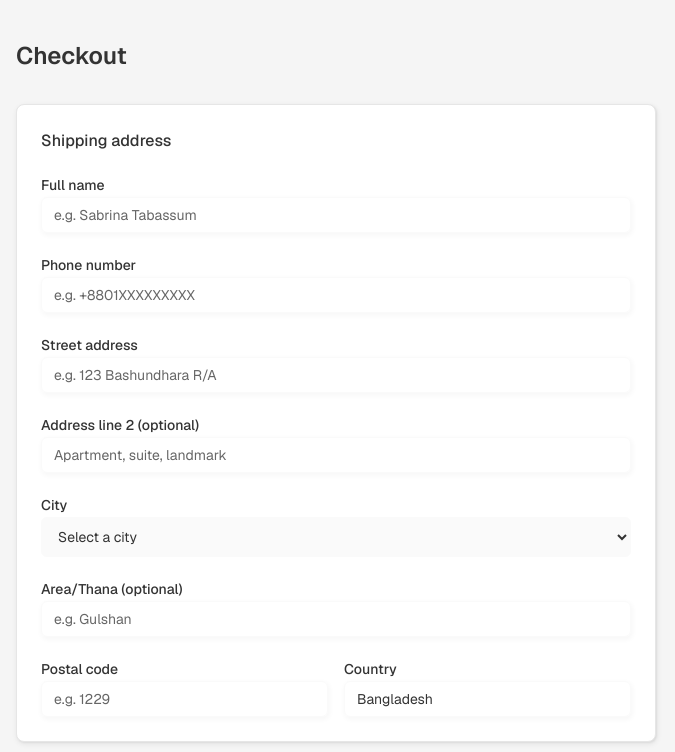
Test: Checkout page cart -> order integration › surfaces API error field when order creation fails
In the field labelled "Full name": (336, 215) [41, 197, 631, 233], type "Sakhiur Rahman"
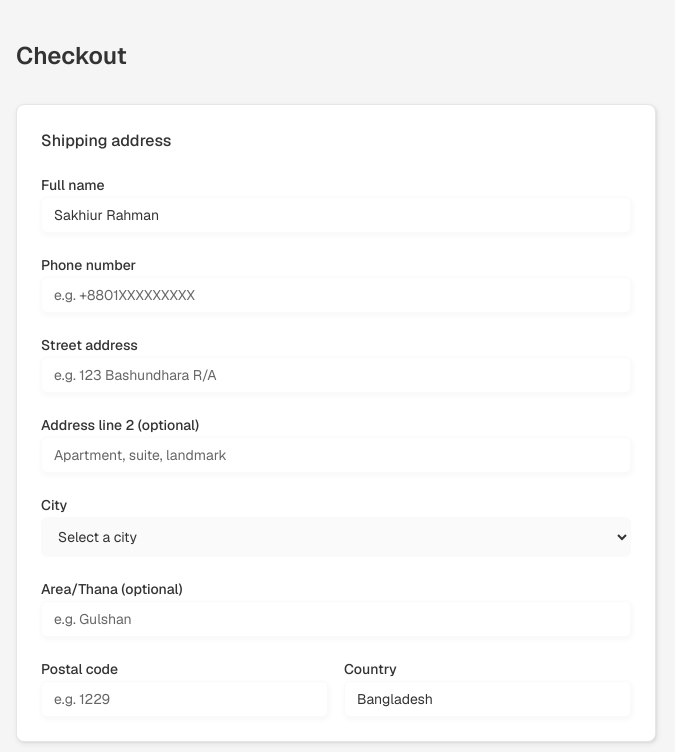
In the field labelled "Phone number": (336, 295) [41, 277, 631, 313], type "+8801712345678"
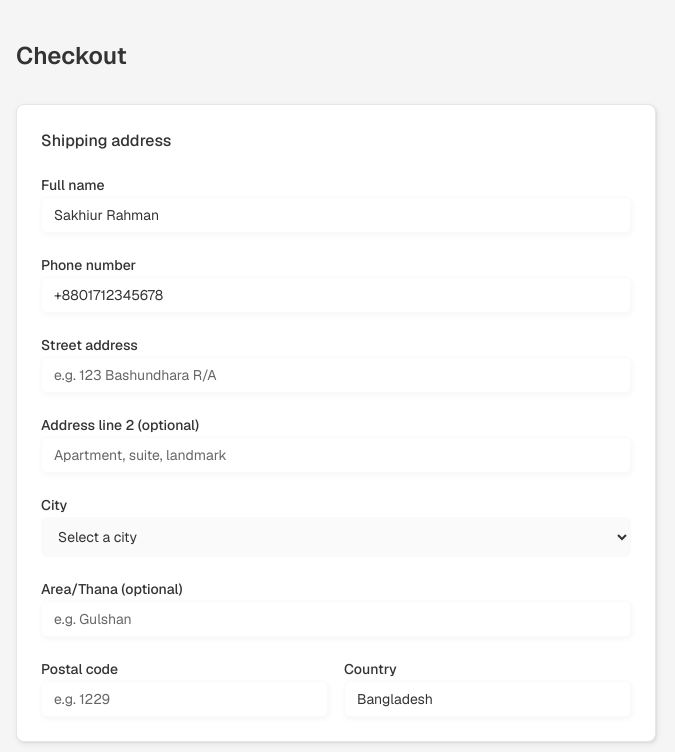
In the field labelled "Street address": (336, 375) [41, 357, 631, 393], type "123 Bashundhara R/A"
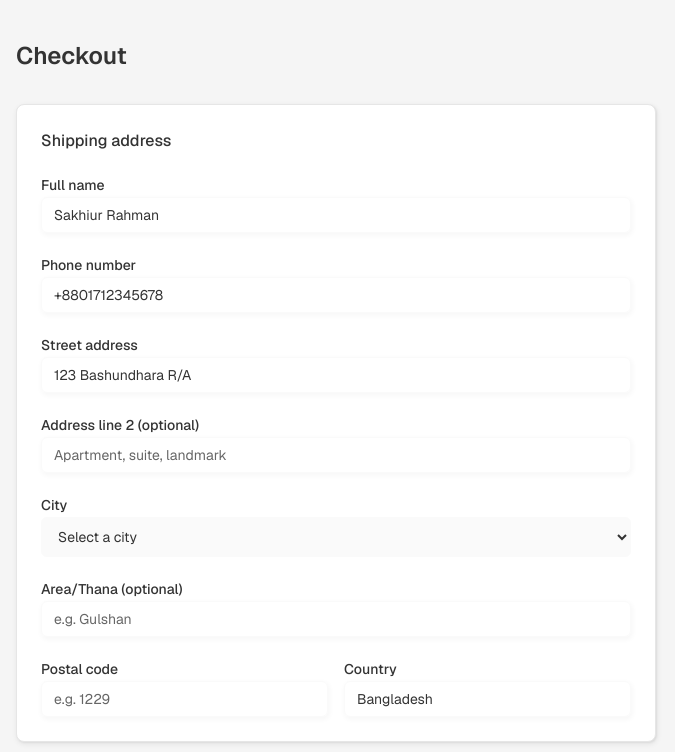
Select "Dhaka" in the dropdown labelled "City": (336, 537) [41, 517, 631, 557]
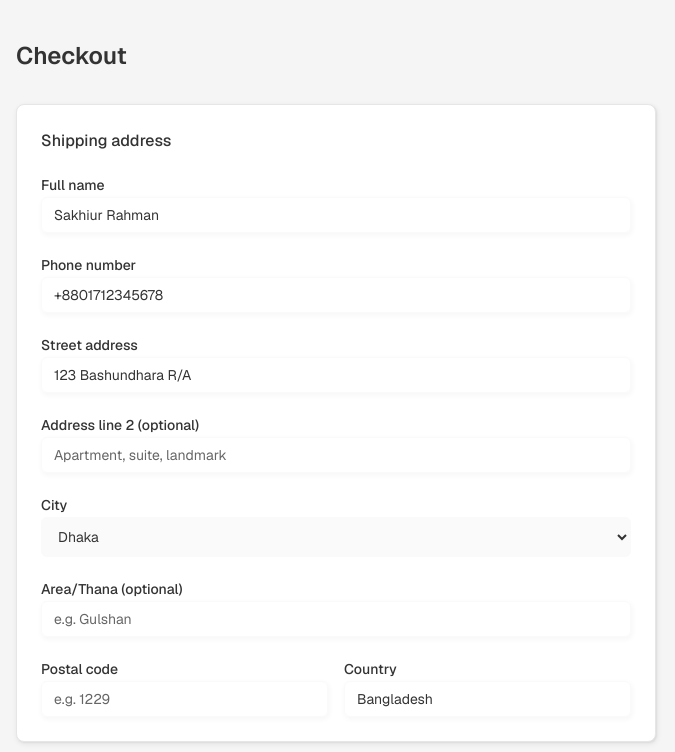
In the field labelled "Postal code": (184, 699) [41, 681, 328, 717], type "1229"
(page scrolled)
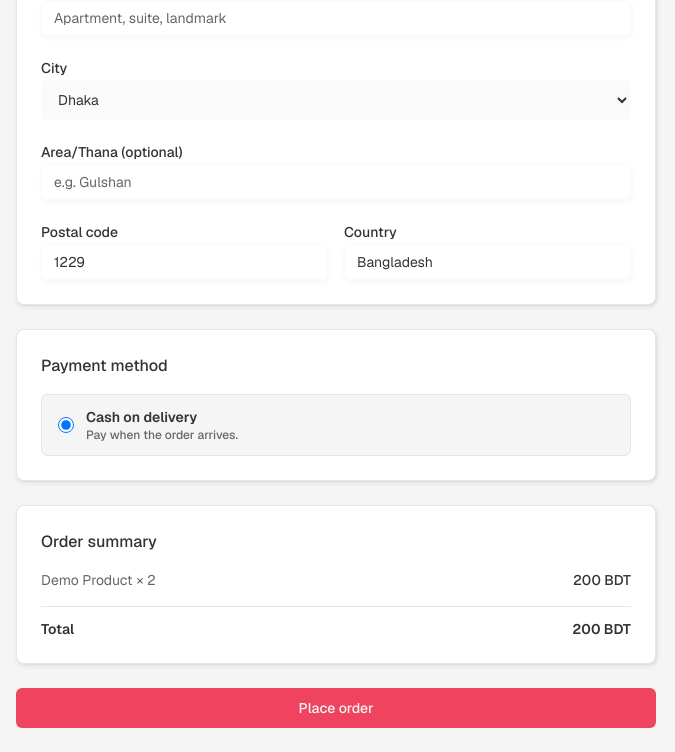
Click the button "Place order": (336, 708) [16, 688, 656, 728]
(page scrolled)
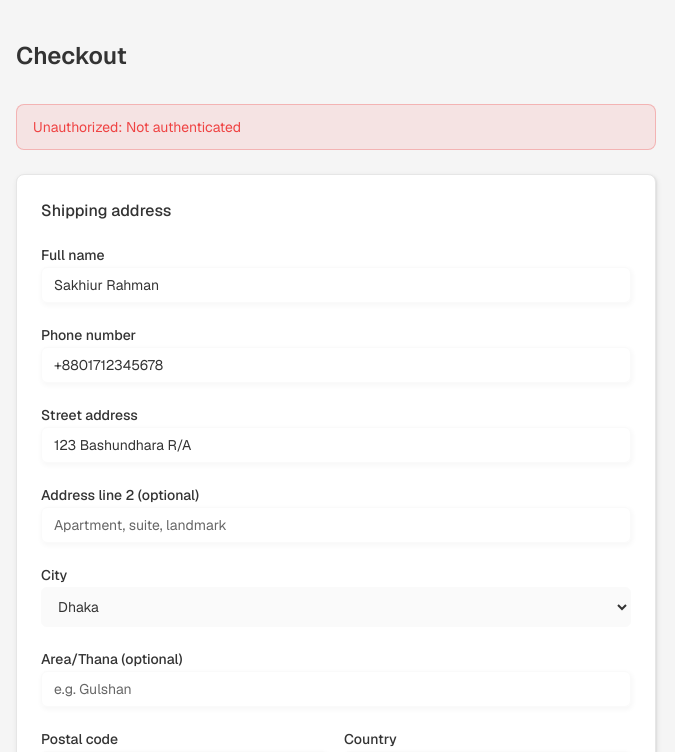
Check: the text "Unauthorized: Not authenticated" is shown, box [16, 104, 656, 150]
